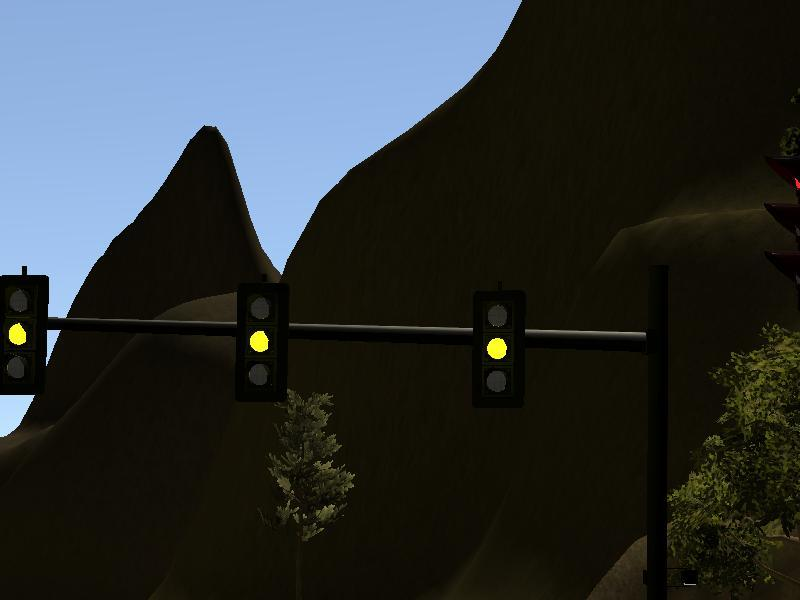Yellow: (234, 284, 287, 404), (471, 291, 524, 407), (1, 275, 48, 396)
